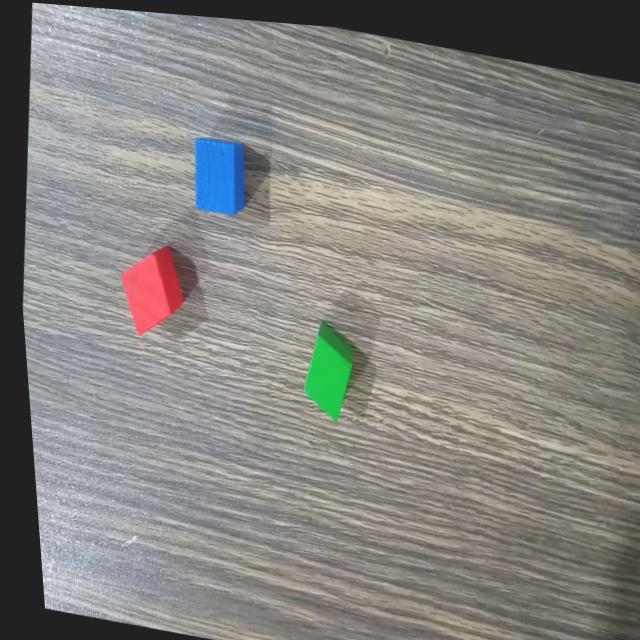cube: (104, 229, 188, 343), (285, 308, 357, 422), (182, 124, 252, 219)
